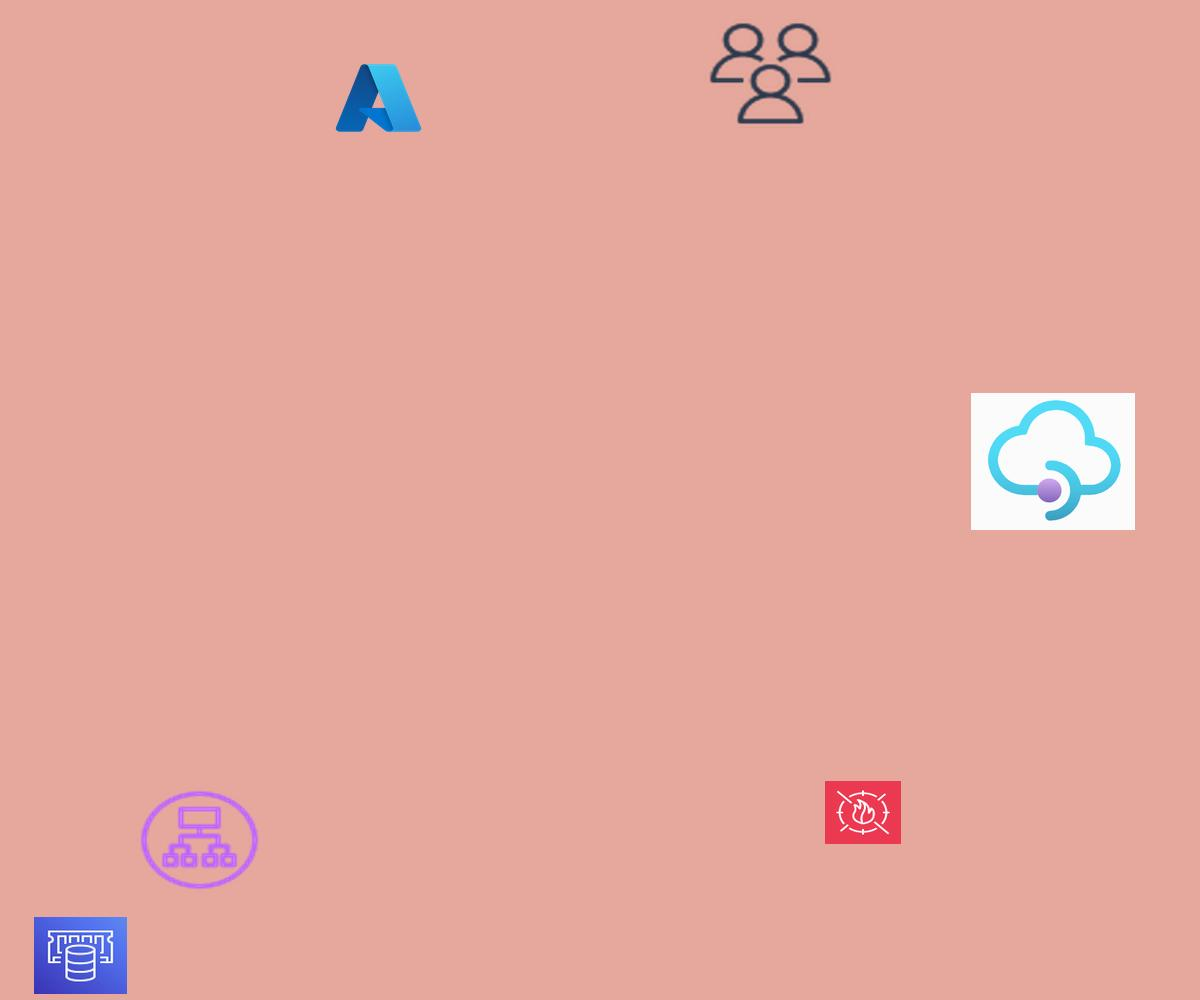AWS-ElastiCache: (34, 917, 127, 994)
AWS-Res_Elastic-Load-Balancing_Application-Load-Balancer: (136, 787, 263, 893)
AWS-Res_Users: (705, 19, 836, 128)
AWS-WAF: (825, 781, 901, 844)
Azure_api_gateway: (971, 393, 1135, 530)
Azure_services: (332, 59, 425, 137)
